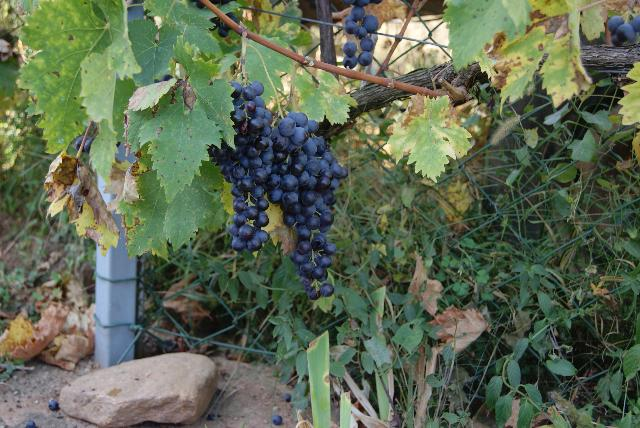grapes: (268, 111, 349, 300), (209, 81, 272, 252)
